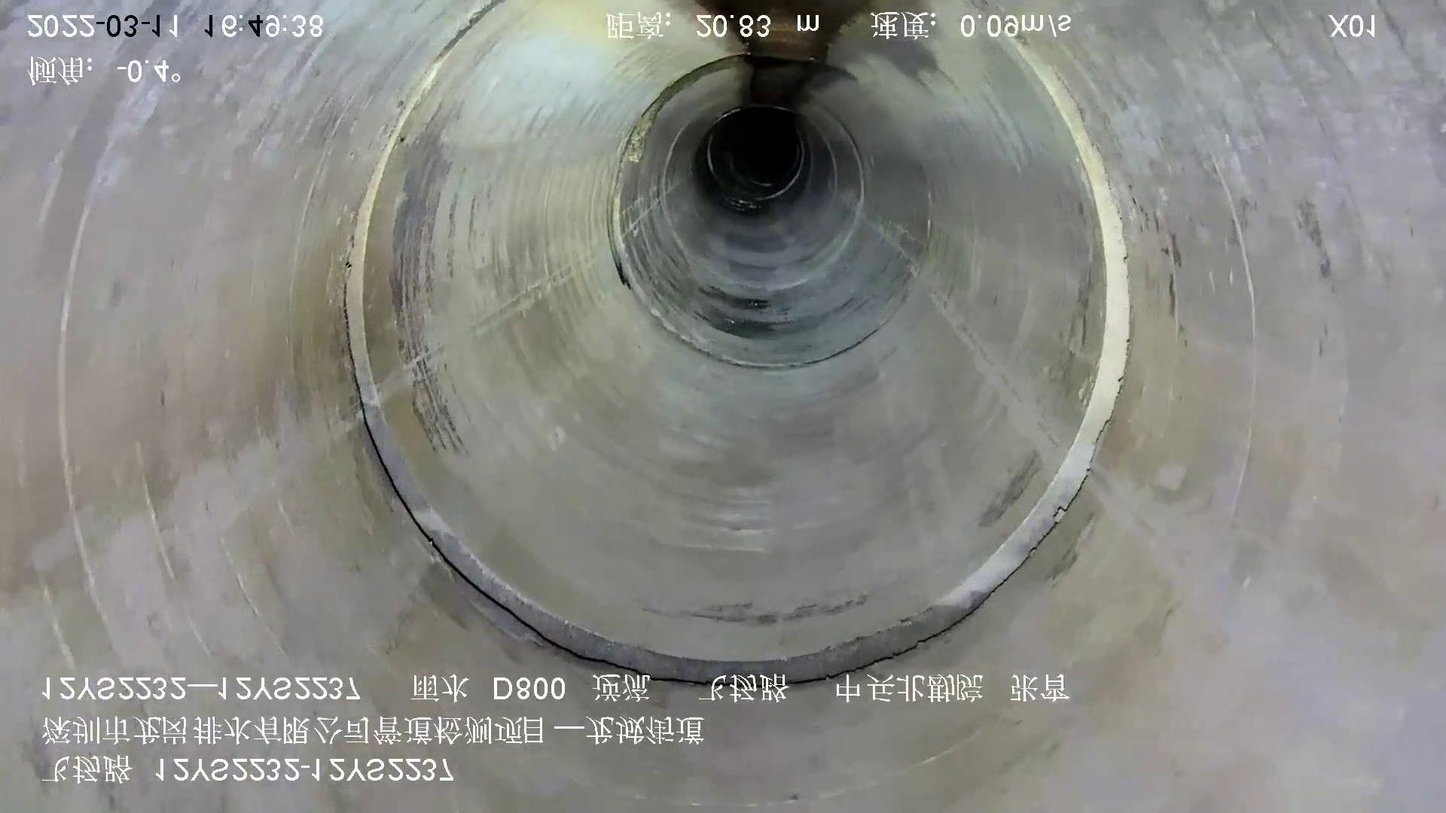CKTJ: (343, 1, 1130, 683), (606, 54, 873, 372)
